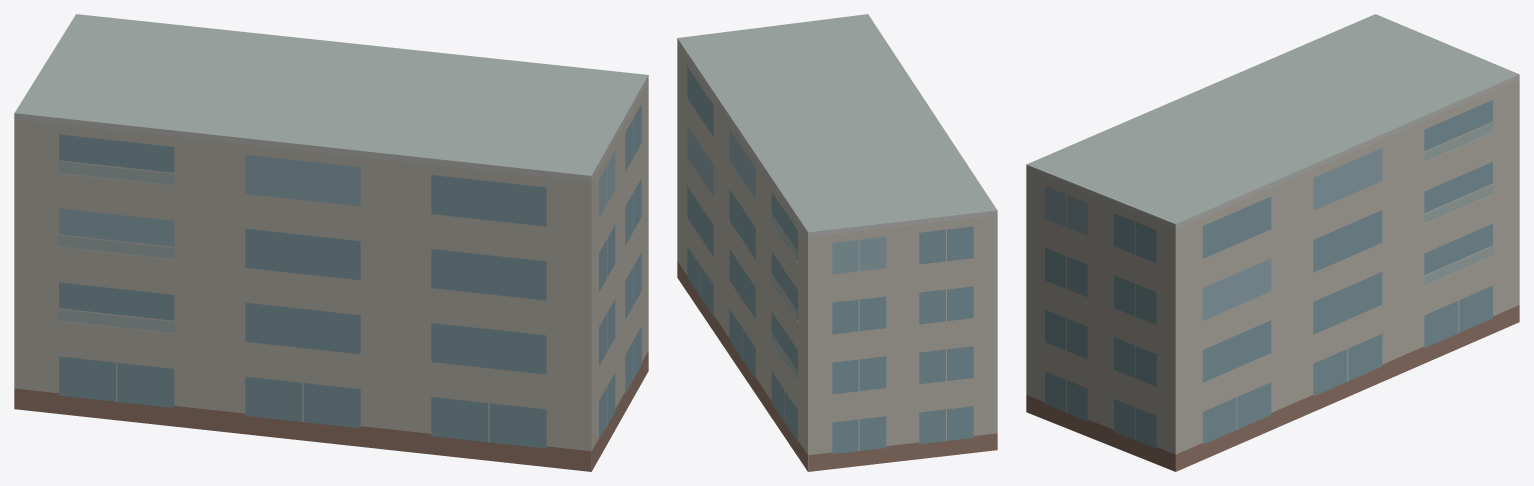
Rendered from survey-upis-32769054.glb.
3 renders of one model, left to right at view 1: azimuth 30°, elevation 25°; view 2: azimuth 150°, elevation 25°; view 3: azimuth 270°, elevation 25°, orthographic. The views are drawn at different scales.
Parts seen in each view (by area): view 1: survey-upis-32769054.tmp; view 2: survey-upis-32769054.tmp; view 3: survey-upis-32769054.tmp.
Part boxes in pixels (x1=…): survey-upis-32769054.tmp: x1=14, y1=14, x2=648, y2=471; survey-upis-32769054.tmp: x1=677, y1=14, x2=997, y2=471; survey-upis-32769054.tmp: x1=1026, y1=14, x2=1519, y2=471.
Bounding box in the file's own units: 21.76 × 11.95 × 21.58.
